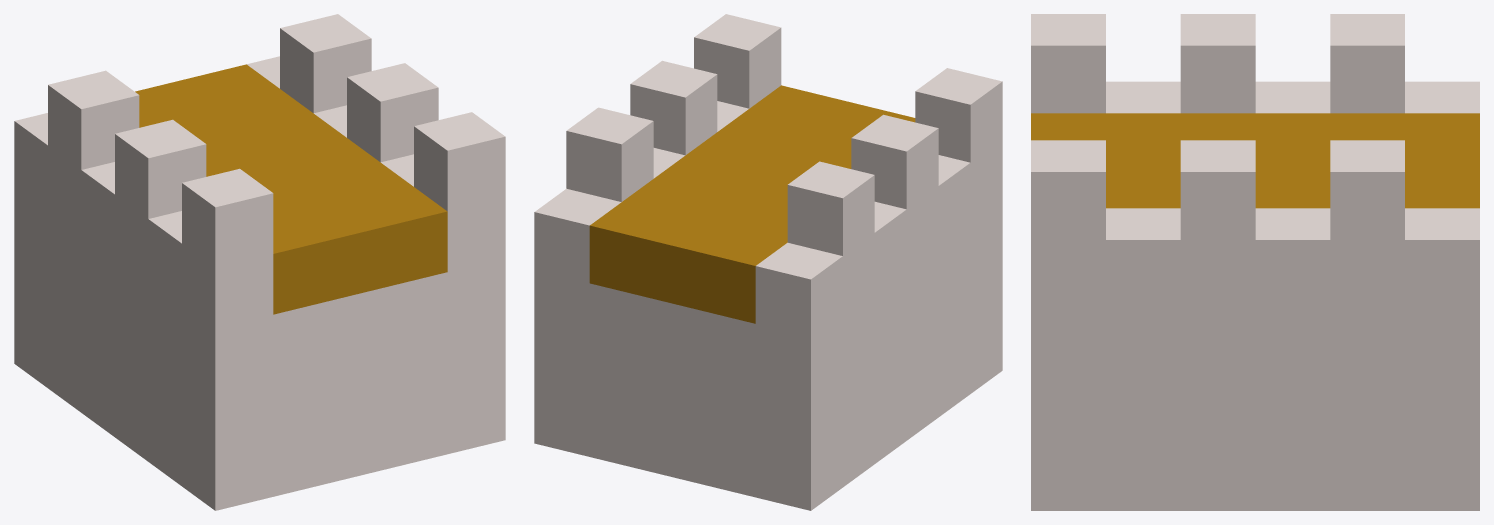
The model's file is wall-ad.obj.
3 renders of one model, left to right at view 1: azimuth 30°, elevation 25°; view 2: azimuth 150°, elevation 25°; view 3: azimuth 270°, elevation 25°, orthographic. The views are drawn at different scales.
Bounding box in the file's own units: 0.5 × 0.5 × 0.6.
1 material, 1 textured.
